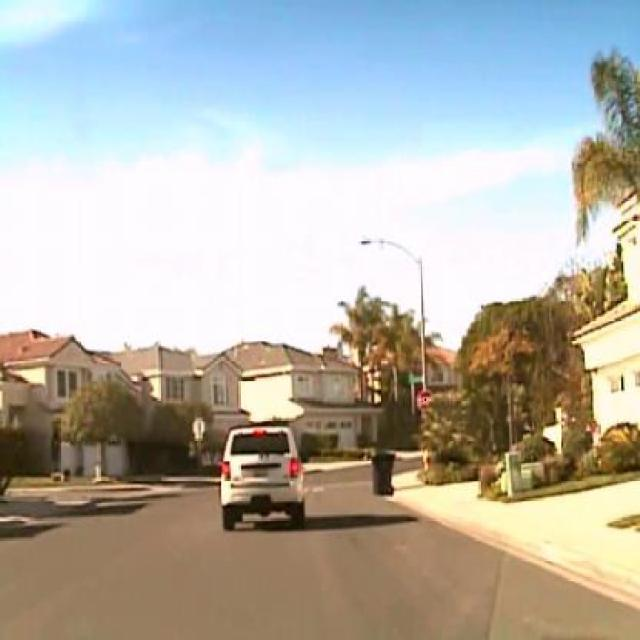stop: (415, 388, 434, 413)
